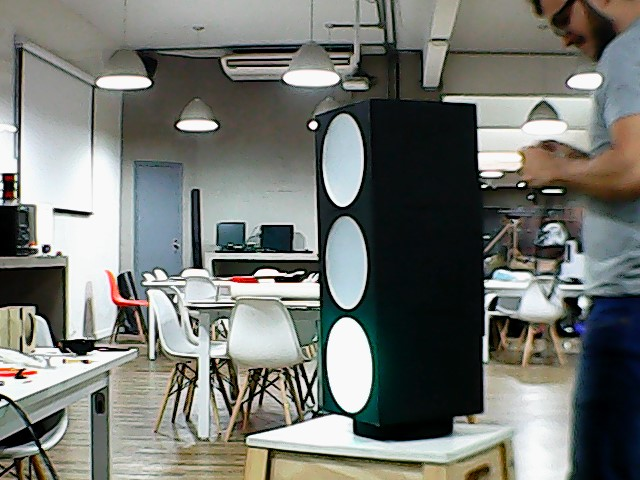verde: (300, 96, 497, 422)
